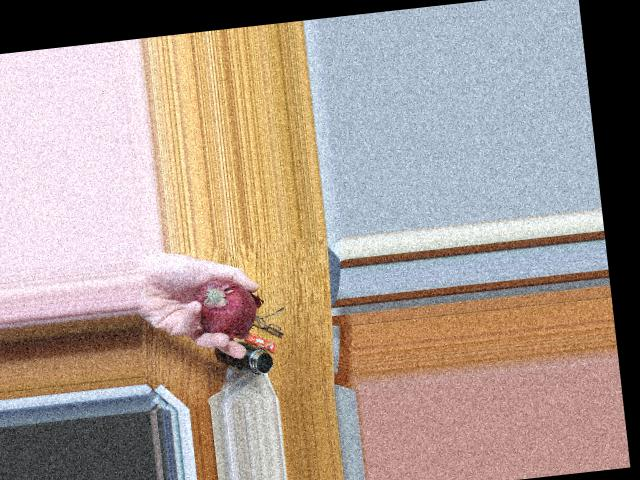onion: (191, 273, 258, 339)
